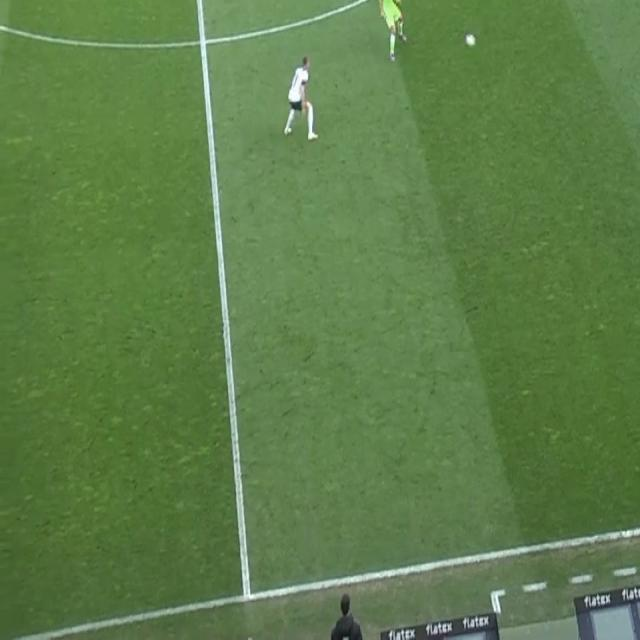ball: (464, 31, 478, 49)
